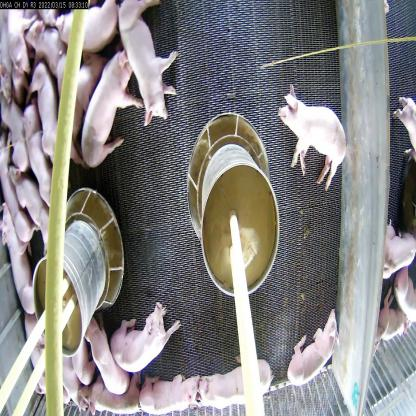Pig: (281, 76, 349, 215), (122, 0, 172, 131), (79, 59, 133, 167), (284, 304, 338, 392), (198, 356, 278, 415), (111, 308, 169, 370), (81, 309, 121, 396), (62, 2, 126, 56), (140, 368, 204, 415), (14, 167, 51, 242), (20, 111, 50, 202), (30, 66, 58, 160), (0, 199, 24, 305), (20, 310, 52, 389)
